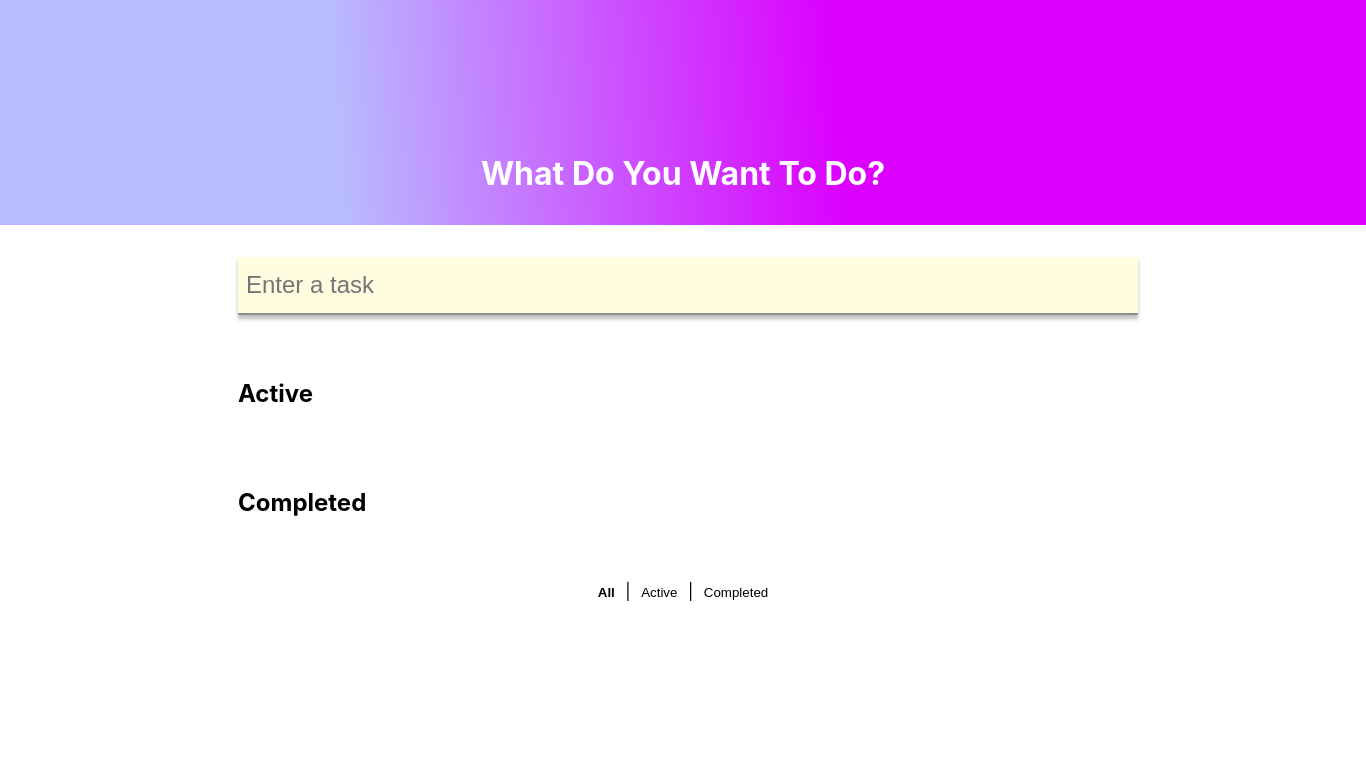
Scenario: completes a Task
In the field with placeholder "Enter a task": point(688, 286) [238,257,1138,315], type "Test Task"
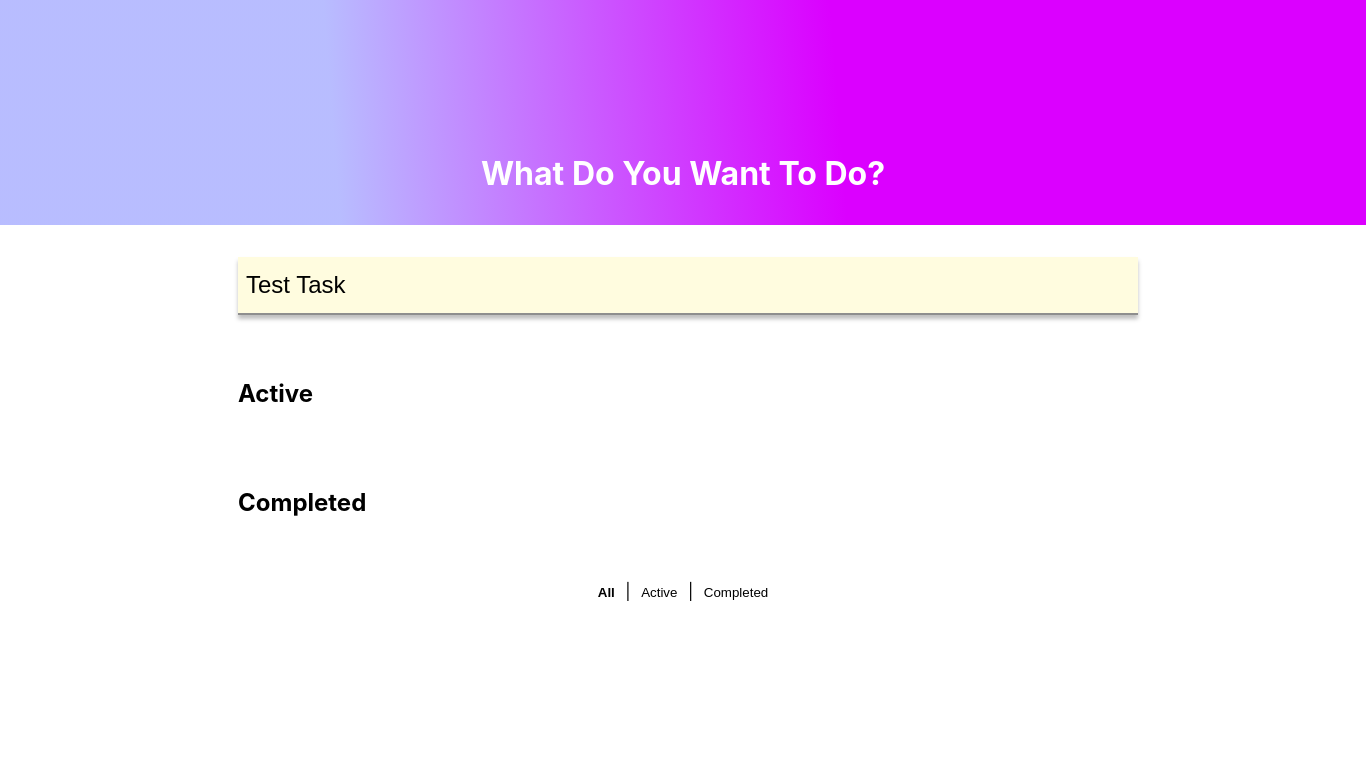
Submit the form from the field with placeholder "Enter a task", box [238,257,1138,315]
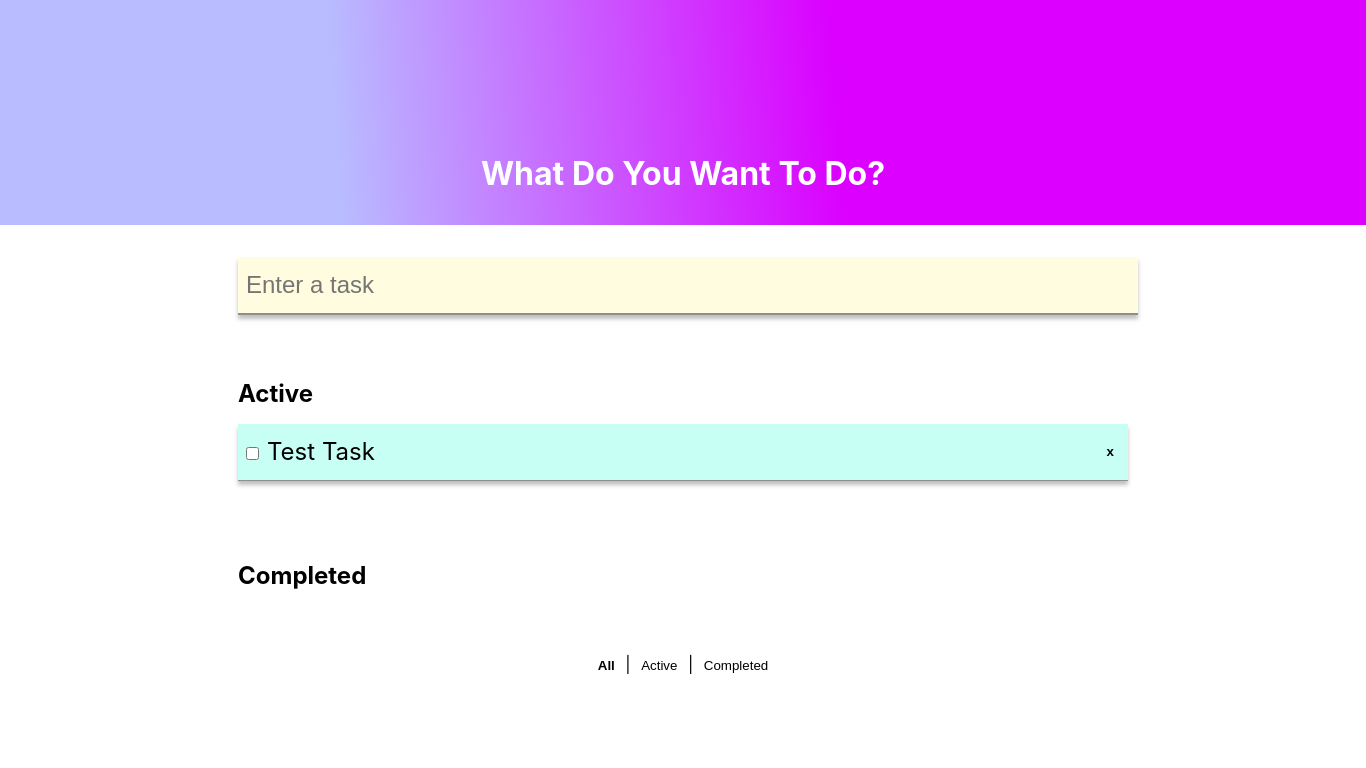
Click the checkbox: point(252, 453) [246,447,259,460]
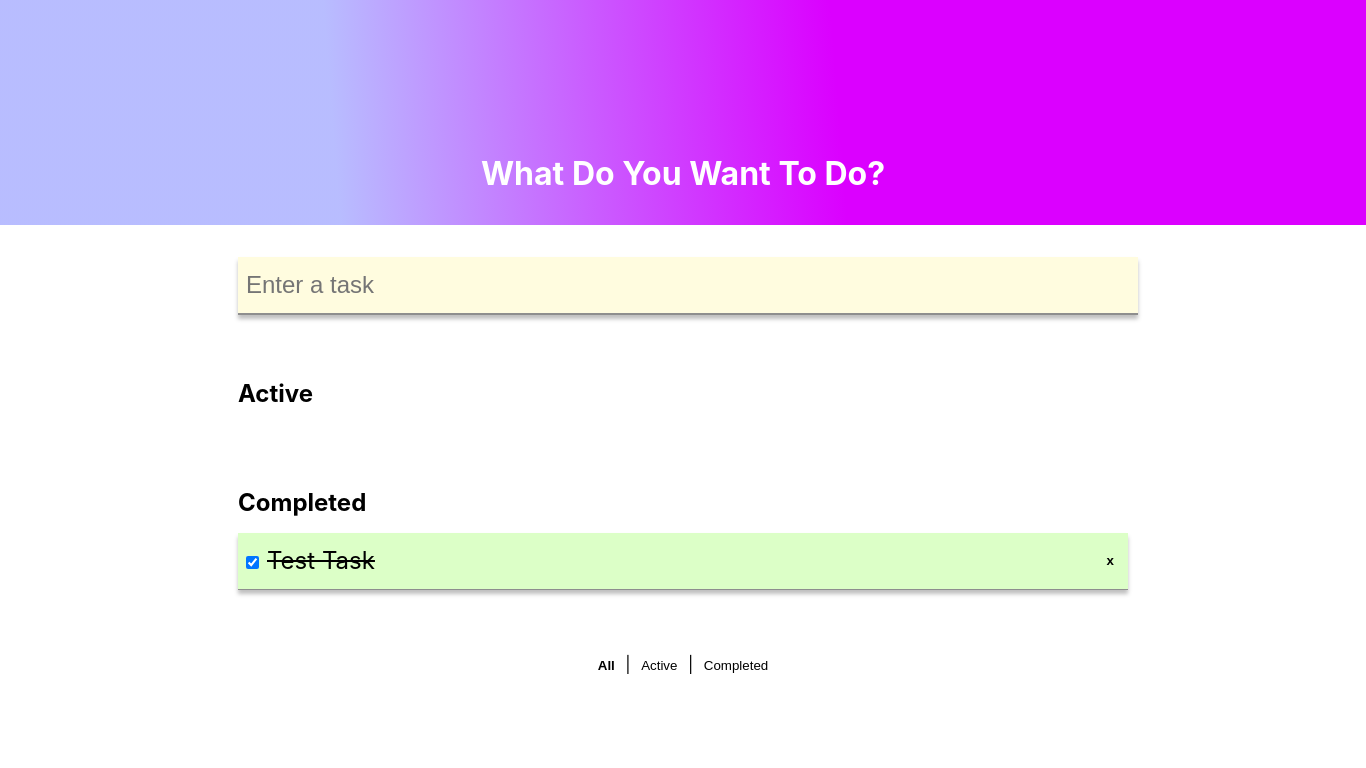
expect the checkbox is checked: met, box [246,556,259,569]
